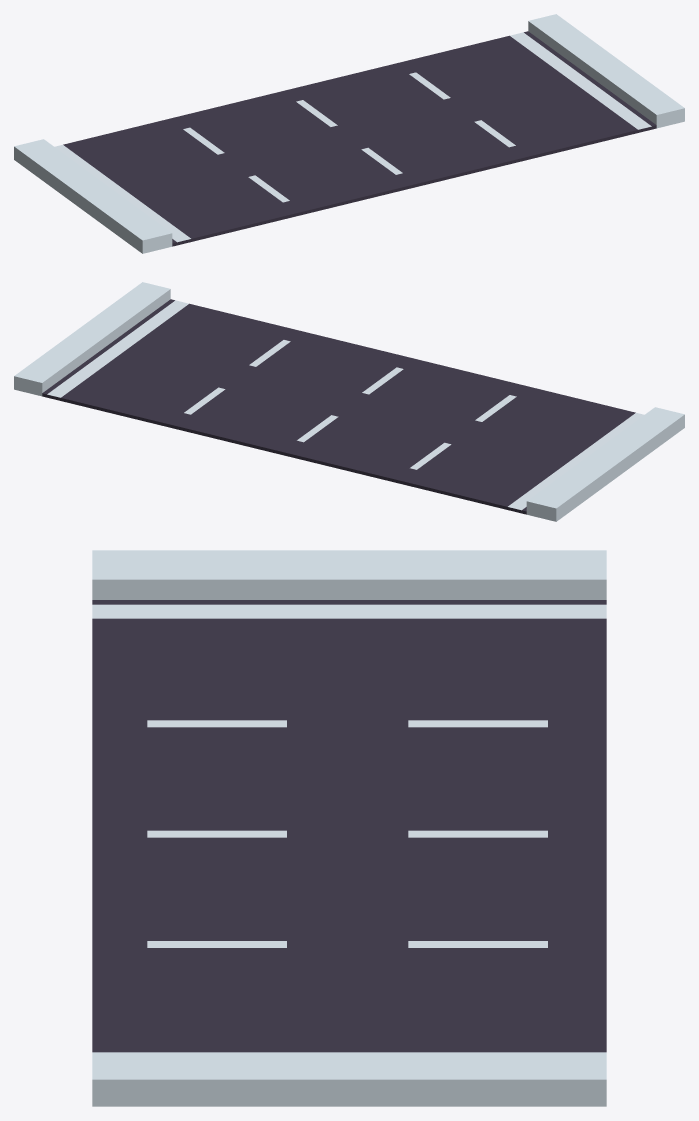
The model's file is road 1.fbx.
The picture shows the model from 3 angles, top to bottom: view 1: azimuth 30°, elevation 25°; view 2: azimuth 150°, elevation 25°; view 3: azimuth 270°, elevation 25°; orthographic projection. The views are drawn at different scales.
Parts seen in each view (by area): view 1: Plane.011, Plane.007, Plane.008; view 2: Plane.011, Plane.007, Plane.008; view 3: Plane.011, Plane.007, Plane.008, Plane.005, Plane.012, Plane.013, Plane.002, Plane.004, Plane.006.
Part boxes in pixels (x1,y1,x2,y2): Plane.011: (63, 31, 656, 246); Plane.007: (14, 14, 684, 253); Plane.008: (54, 32, 651, 242); Plane.011: (42, 299, 635, 514); Plane.007: (14, 282, 684, 521); Plane.008: (47, 300, 644, 510); Plane.011: (92, 600, 606, 1052); Plane.007: (92, 550, 606, 1106); Plane.008: (92, 604, 606, 618); Plane.005: (147, 720, 286, 727); Plane.012: (408, 720, 547, 727); Plane.013: (147, 830, 286, 837); Plane.002: (408, 830, 547, 837); Plane.004: (408, 941, 547, 947); Plane.006: (147, 941, 286, 947).
Bounding box in the file's own units: 2416 × 57.09 × 992.
